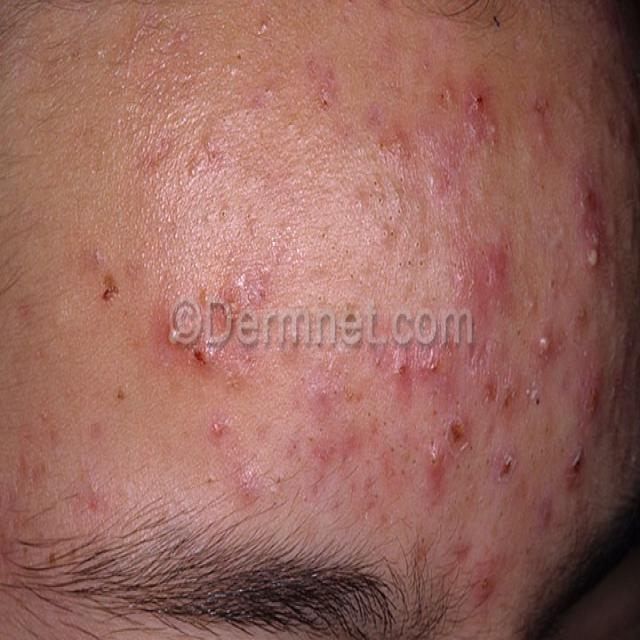blackheads: (79, 465, 113, 511), (492, 446, 521, 486), (424, 436, 447, 477), (581, 230, 602, 274), (206, 409, 232, 444), (106, 375, 128, 408), (237, 463, 259, 492), (532, 330, 551, 360), (568, 450, 585, 476), (259, 22, 270, 35)
